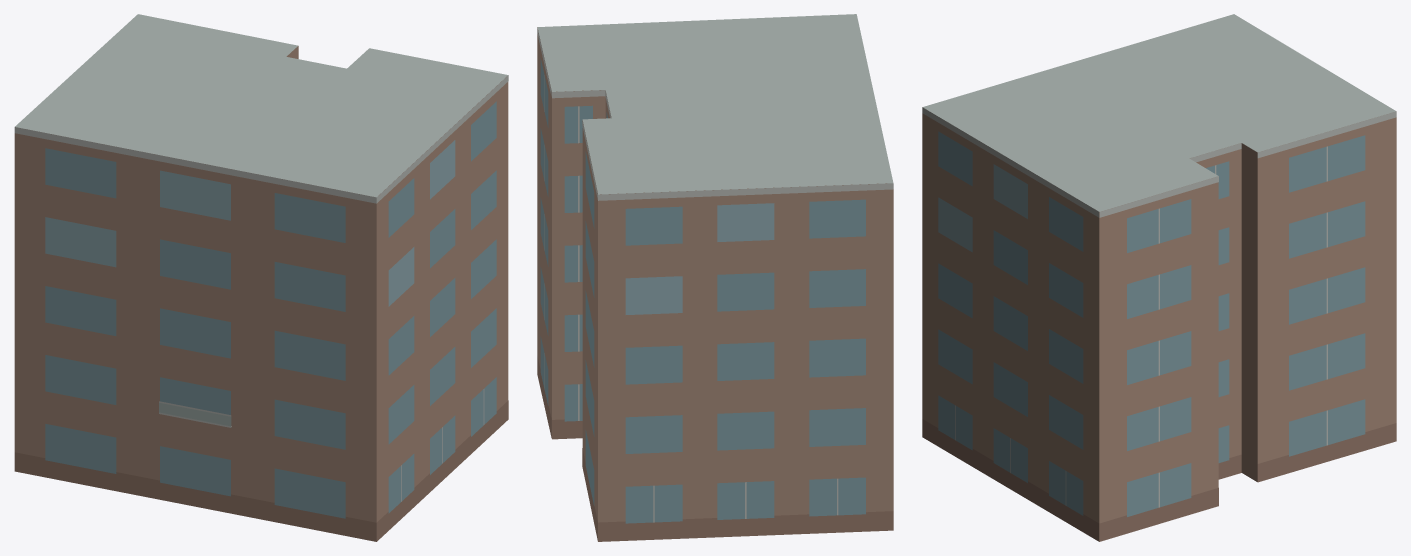
File: survey-upis-32970719.glb
3 renders of one model, left to right at view 1: azimuth 30°, elevation 25°; view 2: azimuth 150°, elevation 25°; view 3: azimuth 270°, elevation 25°, orthographic. The views are drawn at different scales.
Parts seen in each view (by area): view 1: survey-upis-32970719.tmp; view 2: survey-upis-32970719.tmp; view 3: survey-upis-32970719.tmp.
Boxes of the visible parts, <box> form: survey-upis-32970719.tmp: <box>14,14,508,541</box>; survey-upis-32970719.tmp: <box>537,14,893,541</box>; survey-upis-32970719.tmp: <box>922,14,1396,541</box>.
Size of the model in its own units: 17.24 by 13.4 by 17.46.
